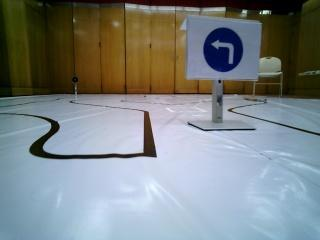left: (188, 20, 264, 78)
